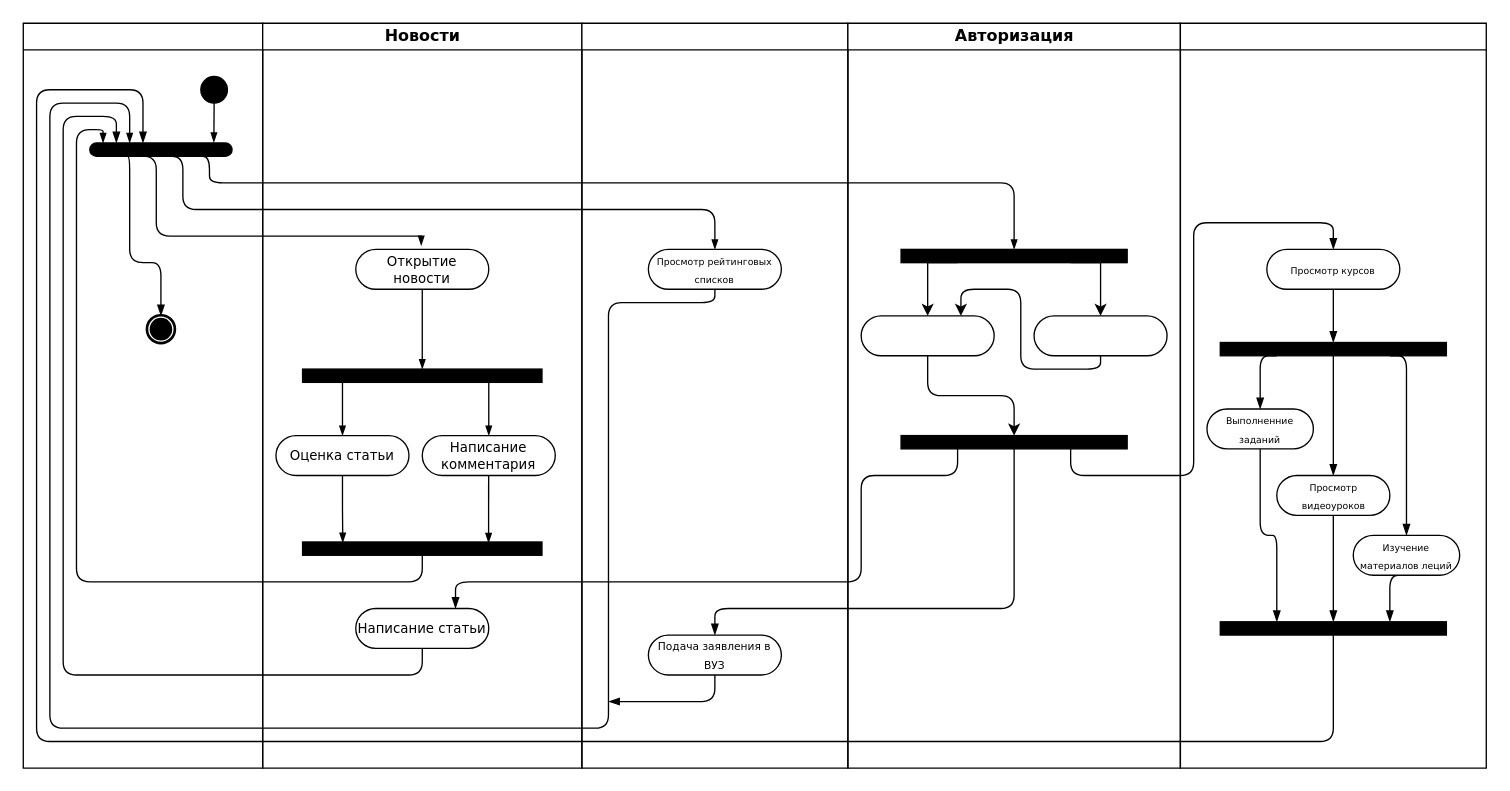
This 1510x791 diagram has some shape labels left out. The shapes that lost their labels are listed below. From the top down, each one's box as (x1, y1, x2, y2) in pixels, then its label:
(860, 315, 994, 356): Вход
(1033, 315, 1167, 356): Регистрация
(22, 22, 263, 768): Пользователь
(581, 22, 848, 768): Рейтинговые списки
(1179, 22, 1486, 768): Курсы
